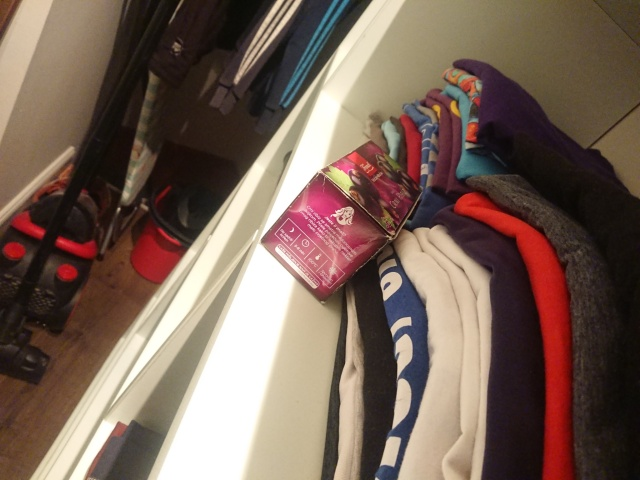Franck Black Currant Tea 60g: (258, 138, 426, 306)
